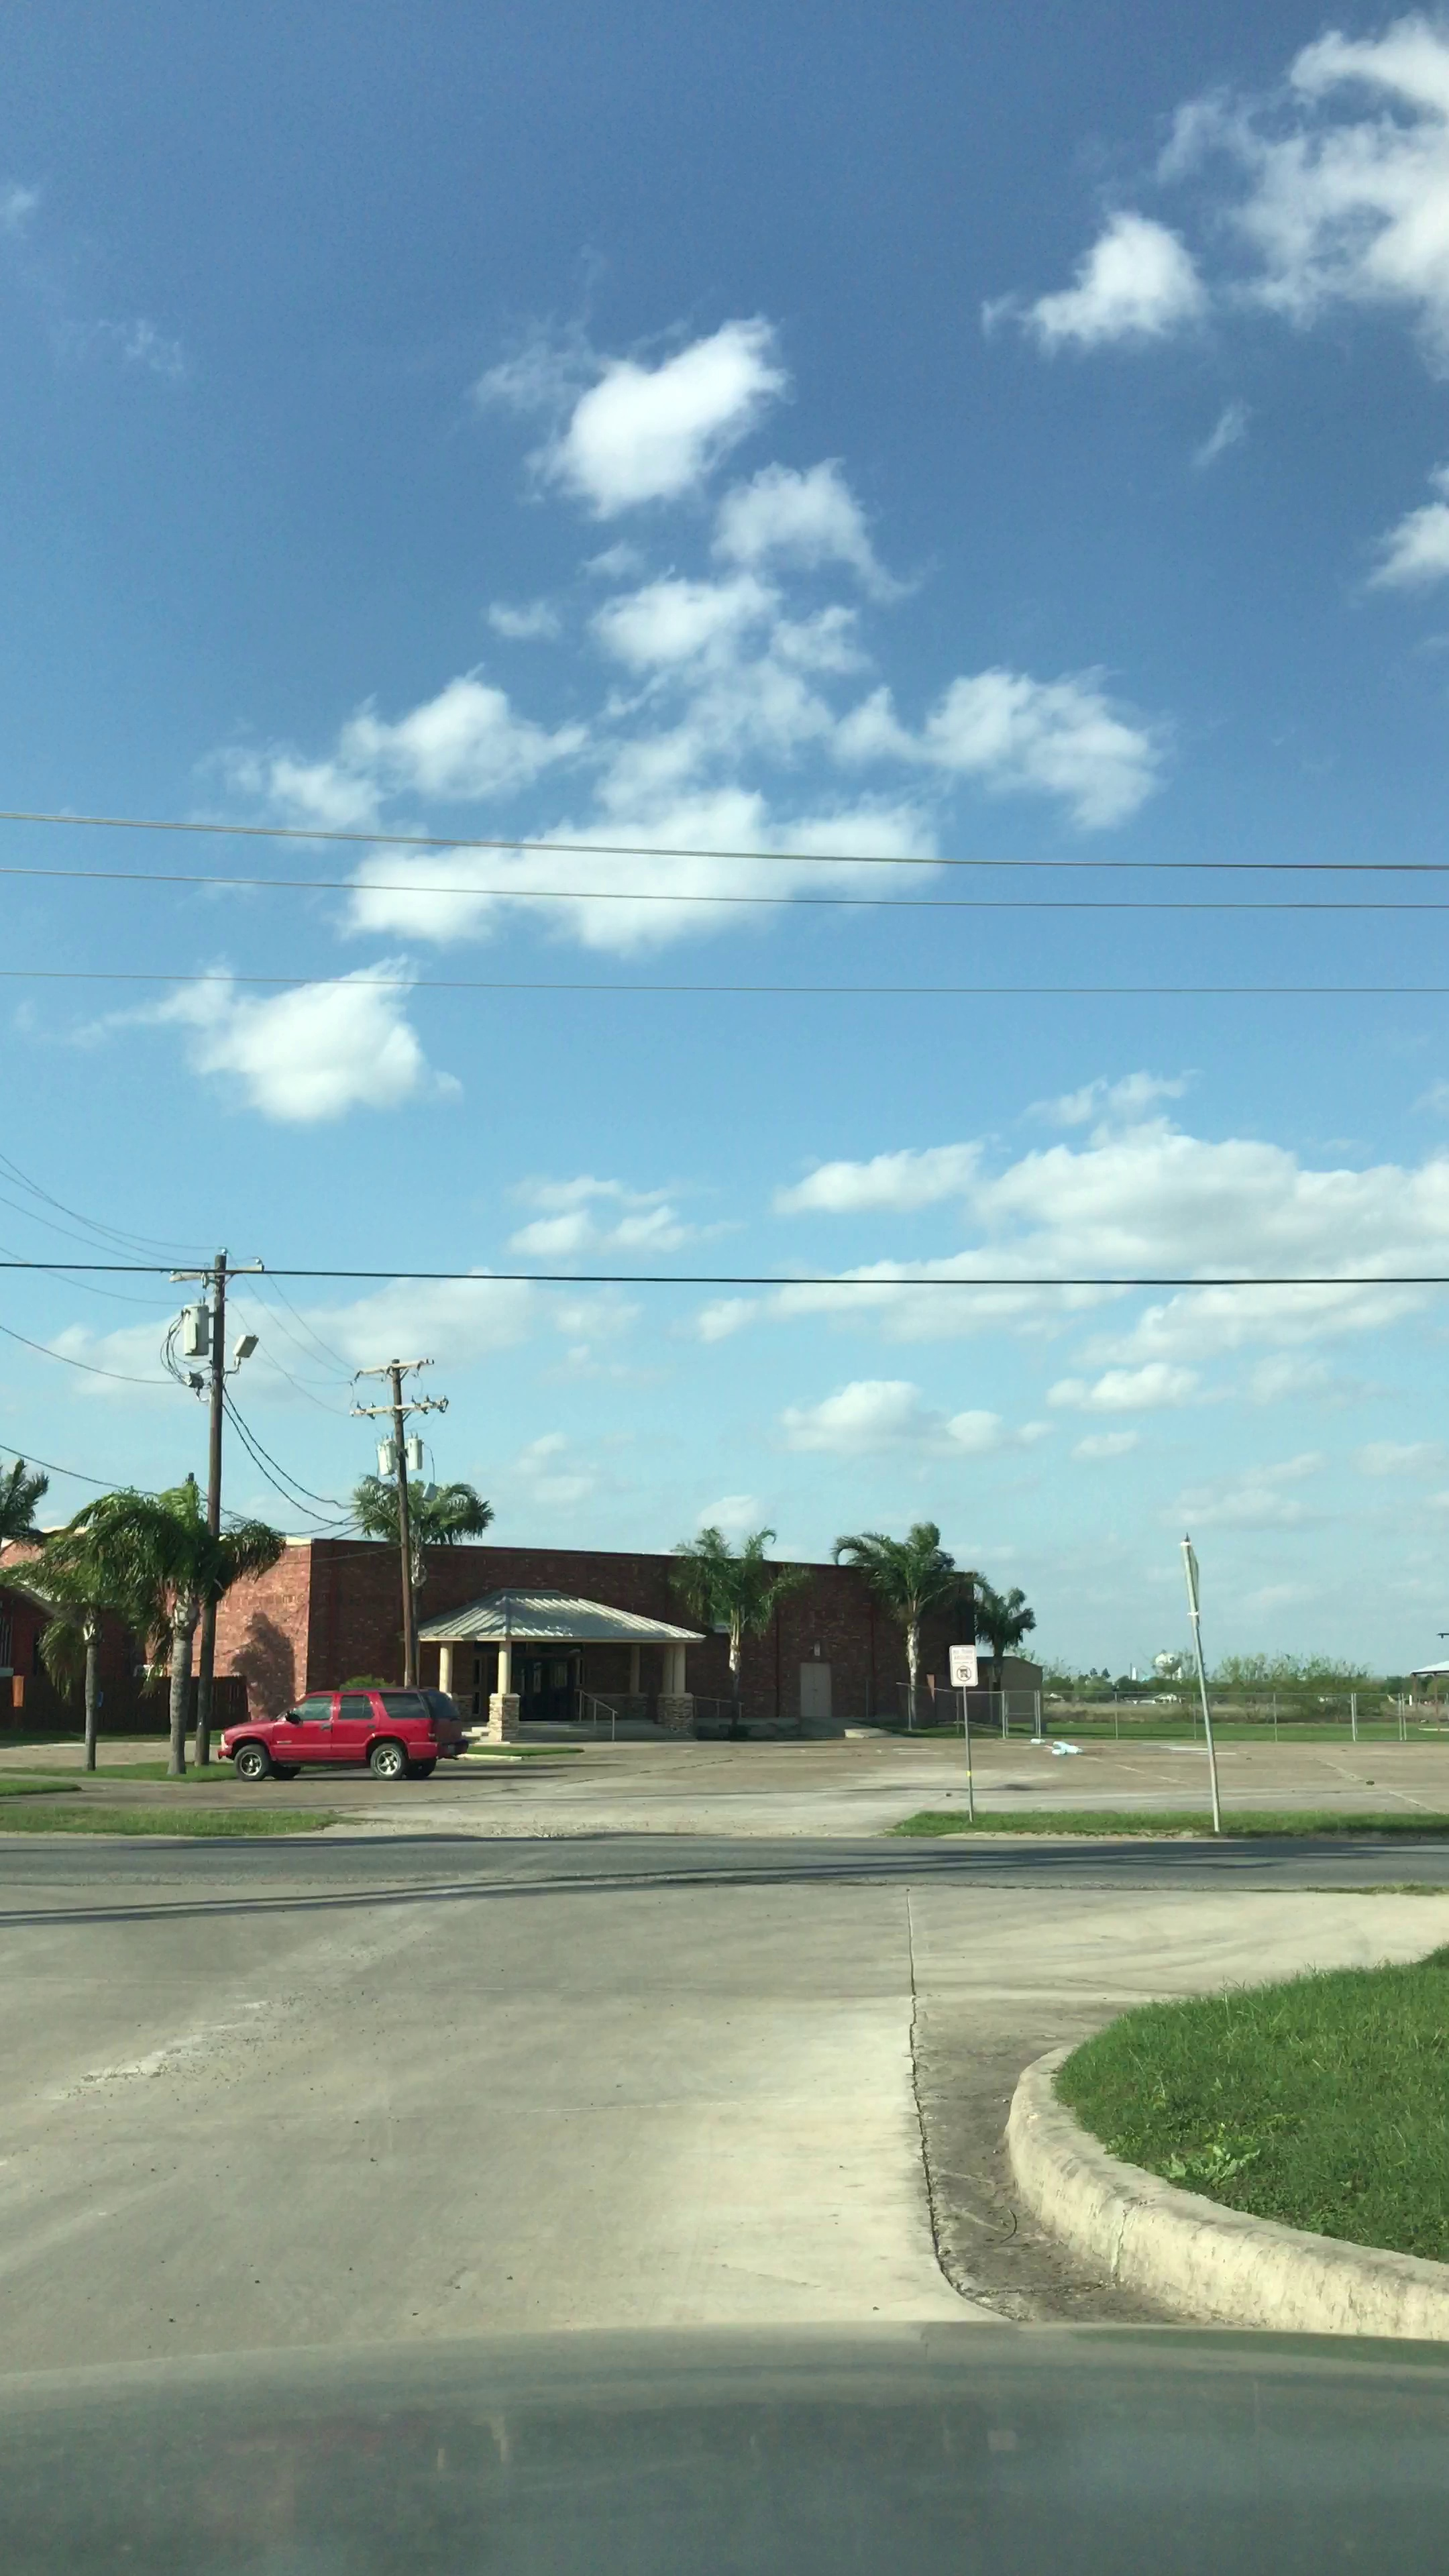blurredLine: (0, 1884, 435, 2185)
